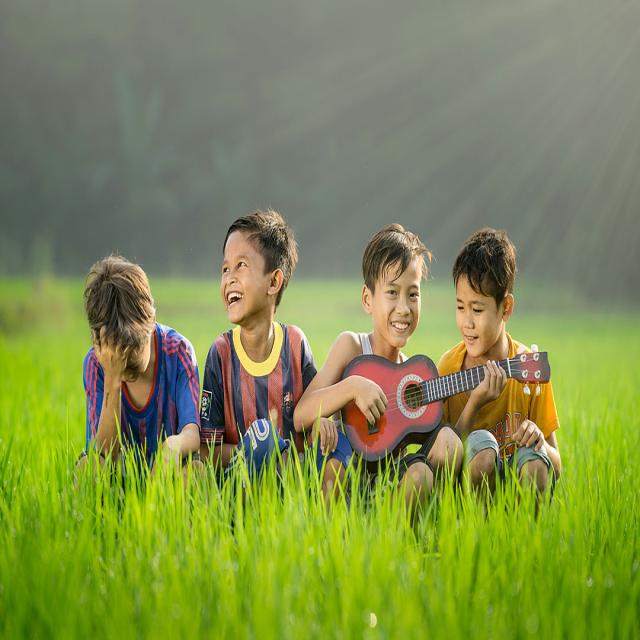child: (293, 222, 464, 507), (201, 205, 338, 483), (436, 224, 565, 503), (81, 256, 207, 479)
